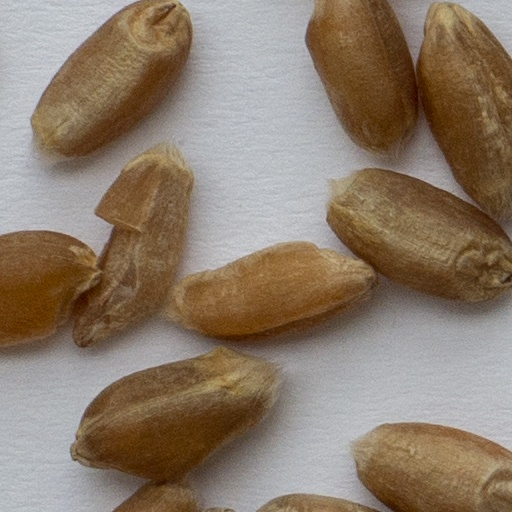Wheat-grain-damaged-poly: (71, 144, 195, 348)
